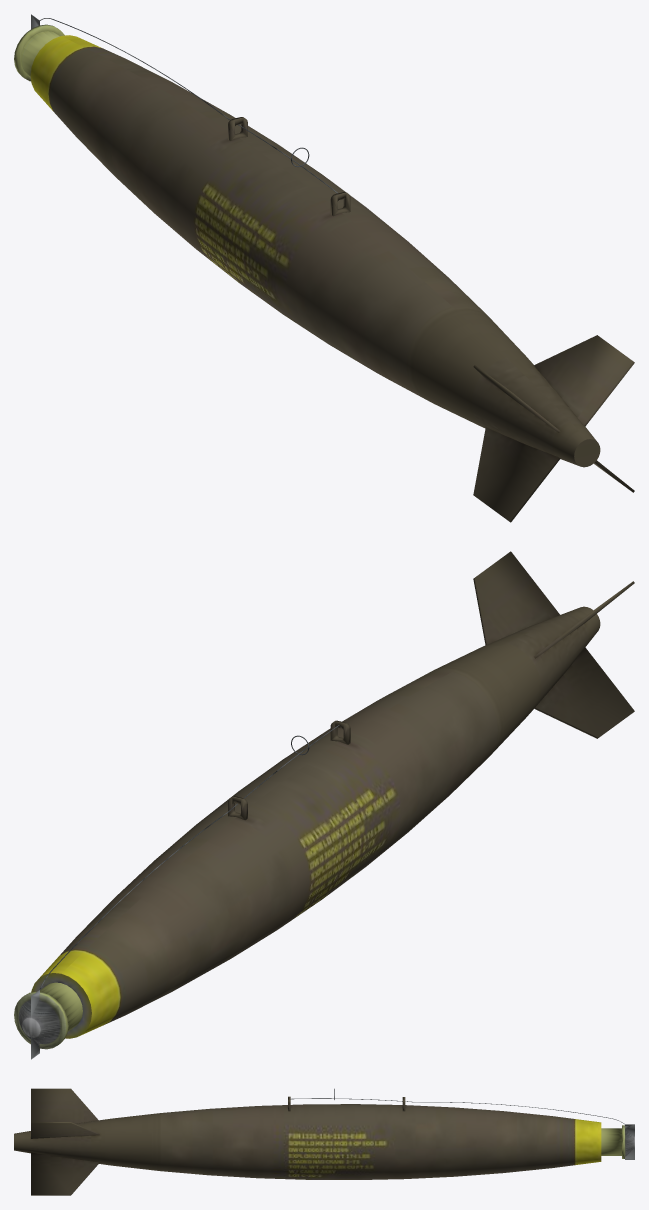
3 renders of one model, top to bottom at view 1: azimuth 30°, elevation 25°; view 2: azimuth 150°, elevation 25°; view 3: azimuth 270°, elevation 25°, orthographic. The views are drawn at different scales.
Visible parts, largest first — view 1: mk82_body; view 2: mk82_body; view 3: mk82_body.
Part boxes in pixels (left/top/right/bottom): mk82_body: left=14, top=14, right=634, bottom=522; mk82_body: left=14, top=551, right=634, bottom=1059; mk82_body: left=14, top=1088, right=634, bottom=1195.
Bounding box in the file's own units: 0.2937 × 0.3594 × 2.25.
1 material, 1 textured.
